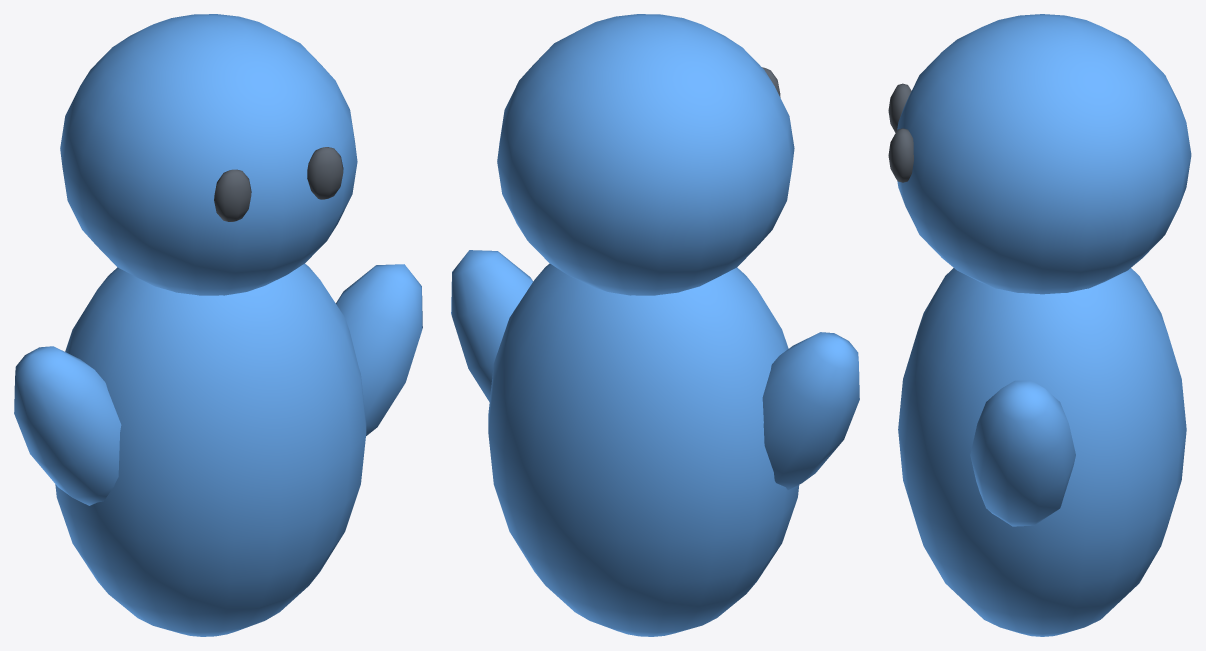
File: figure_blue.glb
3 renders of one model, left to right at view 1: azimuth 30°, elevation 25°; view 2: azimuth 150°, elevation 25°; view 3: azimuth 270°, elevation 25°, orthographic.
Parts seen in each view (by area): view 1: FigureBlue; view 2: FigureBlue; view 3: FigureBlue.
Part boxes in pixels (x1=…): FigureBlue: x1=14, y1=14, x2=422, y2=636; FigureBlue: x1=451, y1=14, x2=859, y2=636; FigureBlue: x1=888, y1=14, x2=1191, y2=636.
Size of the model in its own units: 0.0954 by 0.137 by 0.063.
